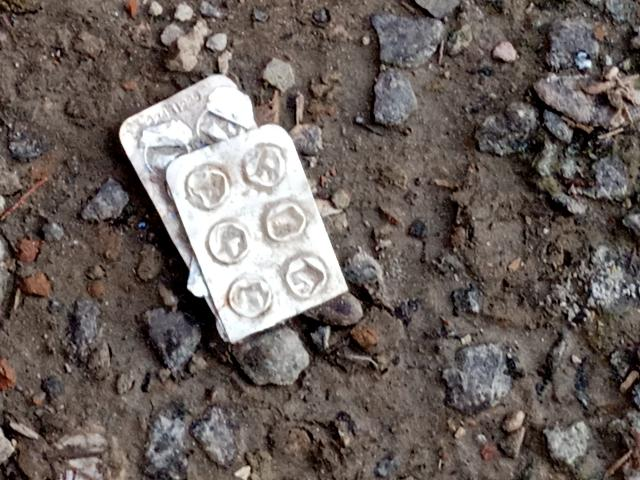medicine: (109, 52, 362, 353)
